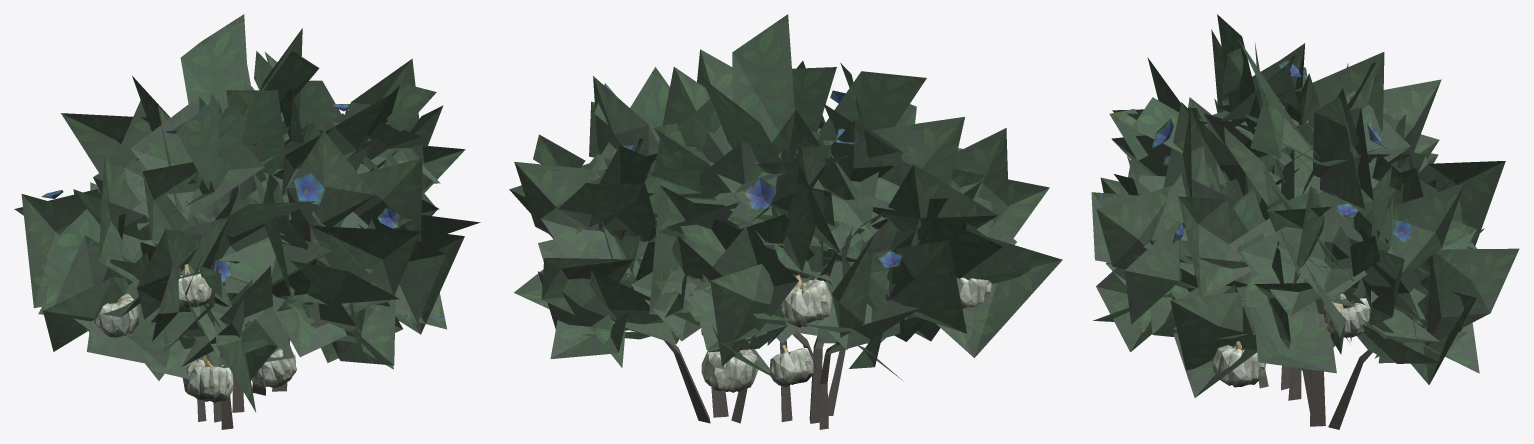
Rendered from P_YueDong02.obj.
The picture shows the model from 3 angles, left to right: view 1: azimuth 30°, elevation 25°; view 2: azimuth 150°, elevation 25°; view 3: azimuth 270°, elevation 25°; orthographic projection.
Bounding box in the file's own units: 2.28 × 1.68 × 1.74.
11 materials, 11 textured.
